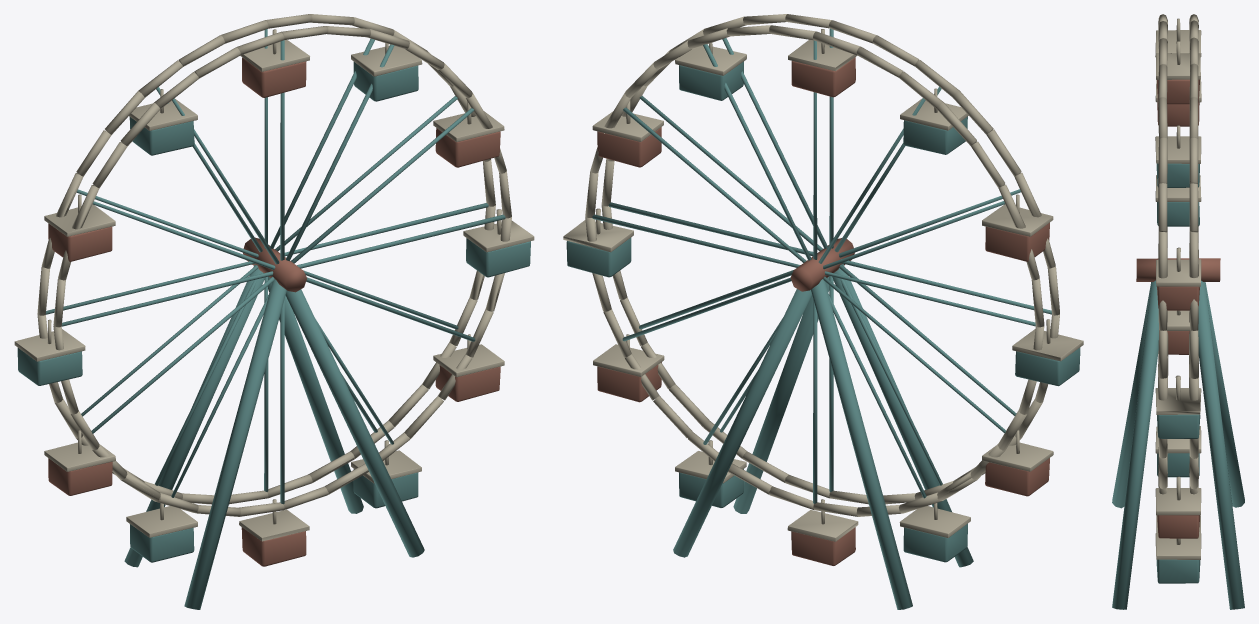
File: prop_ferris_wheel.glb
3 views of the same model, side by side, from view 1: azimuth 30°, elevation 25°; view 2: azimuth 150°, elevation 25°; view 3: azimuth 270°, elevation 25° (orthographic). The views are drawn at different scales.
Visible parts, largest first — view 1: scenery_teal, scenery_cream, scenery_coral; view 2: scenery_teal, scenery_cream, scenery_coral; view 3: scenery_teal, scenery_cream, scenery_coral.
Part boxes in pixels (x1,y1,x2,y2): scenery_teal: (17,29,530,609); scenery_cream: (14,14,534,541); scenery_coral: (48,57,500,566); scenery_teal: (566,28,1080,609); scenery_cream: (563,14,1083,541); scenery_coral: (597,57,1049,565); scenery_teal: (1112,163,1244,609); scenery_cream: (1155,14,1201,559); scenery_coral: (1136,79,1220,538).
Bounding box in the file's own units: 26.6 × 27.37 × 6.32.
